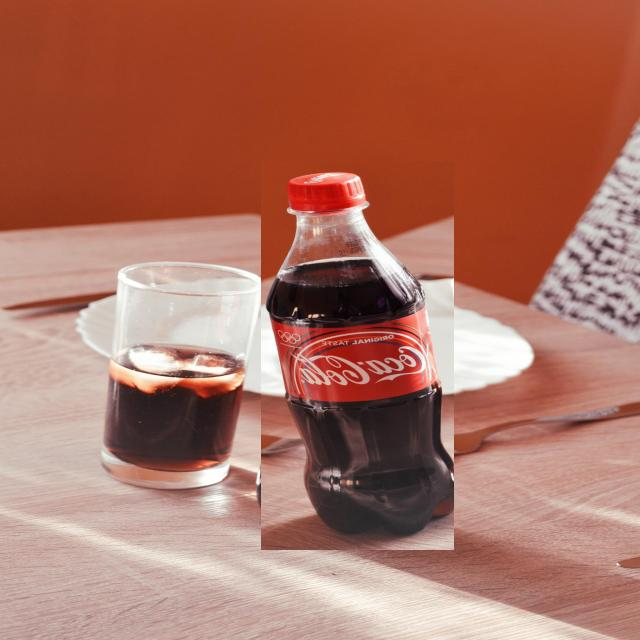coca-cola: (261, 161, 454, 550)
